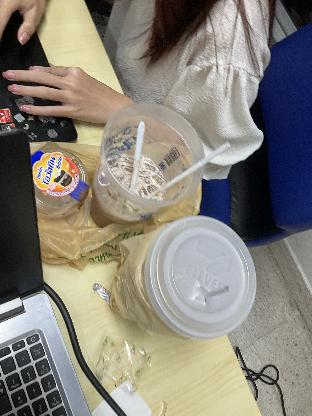Plastic Cup: (120, 211, 254, 339), (86, 94, 198, 216)
